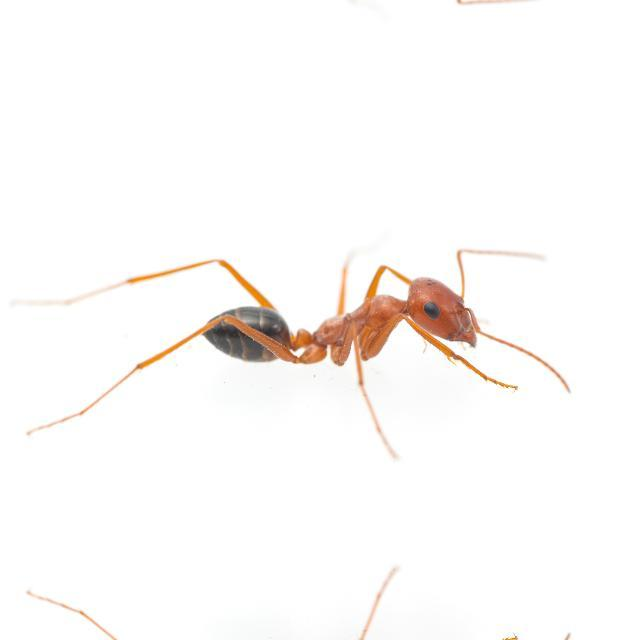Cataglyphis: (154, 234, 548, 406)
